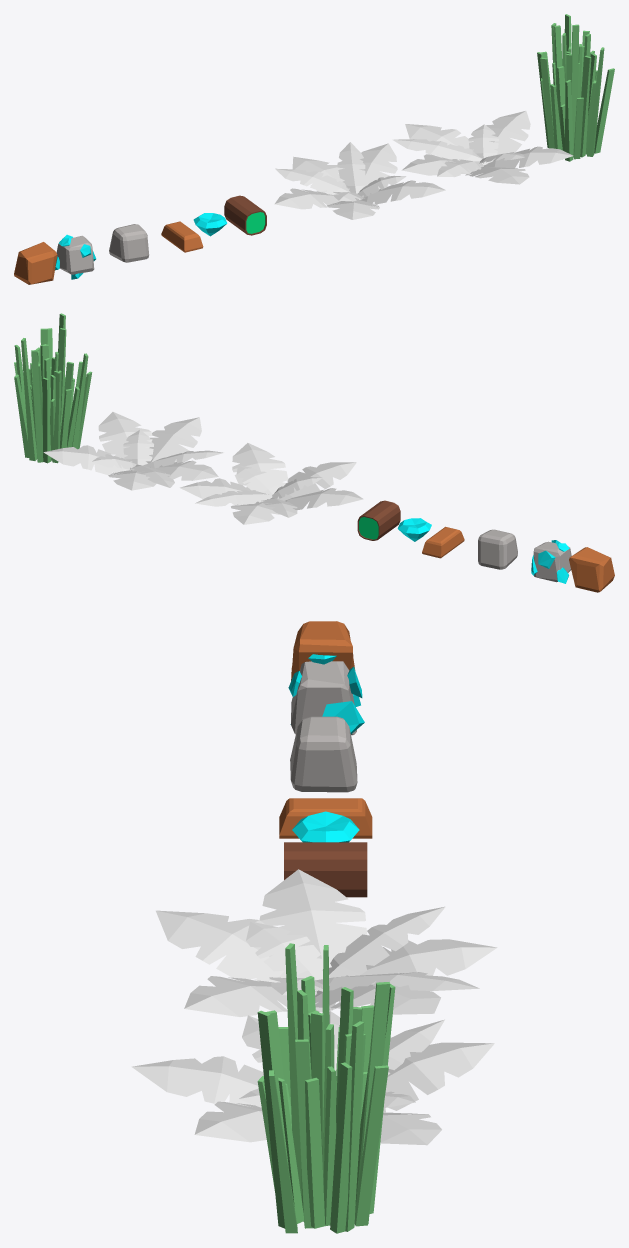
3 views of the same model, one above another, from view 1: azimuth 30°, elevation 25°; view 2: azimuth 150°, elevation 25°; view 3: azimuth 270°, elevation 25° (orthographic). The views are drawn at different scales.
Parts seen in each view (by area): view 1: Cube, Bush.008, Bush.002, Iron Ore, Glass Ore, Stone, Wood, IronBar, Glass; view 2: Cube, Bush.008, Bush.002, Iron Ore, Glass Ore, Stone, Wood, IronBar, Glass; view 3: Cube, Bush.002, Bush.008, Stone, Glass Ore, Wood, IronBar, Iron Ore, Glass.
Boxes of the visible parts, x1,y1,x2,y2 form: Cube: (537, 14, 614, 161); Bush.008: (392, 111, 573, 184); Bush.002: (274, 142, 445, 219); Iron Ore: (14, 242, 57, 284); Glass Ore: (55, 234, 96, 279); Stone: (109, 224, 149, 262); Wood: (224, 195, 266, 235); IronBar: (161, 221, 203, 252); Glass: (193, 213, 227, 236); Cube: (14, 313, 92, 463); Bush.008: (43, 412, 223, 490); Bush.002: (179, 443, 363, 524); Iron Ore: (569, 547, 614, 592); Glass Ore: (531, 540, 571, 583); Stone: (478, 529, 517, 569); Wood: (357, 500, 400, 540); IronBar: (422, 526, 464, 558); Glass: (397, 518, 431, 541); Cube: (257, 943, 395, 1233); Bush.002: (156, 869, 497, 1016); Bush.008: (131, 1011, 494, 1145); Stone: (290, 716, 357, 792); Glass Ore: (288, 654, 364, 735); Wood: (284, 842, 367, 897); IronBar: (279, 798, 372, 838); Iron Ore: (291, 621, 355, 680); Glass: (292, 811, 359, 842).
Bounding box in the file's own units: 147 × 537 × 121.
